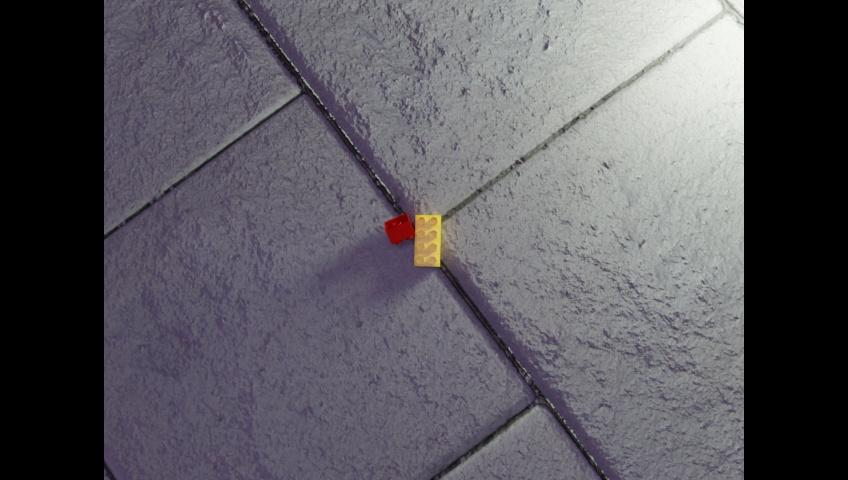2x2_red: (384, 212, 414, 244)
4x2_yellow: (414, 214, 439, 266)
